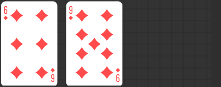9D: (67, 5, 74, 21)
